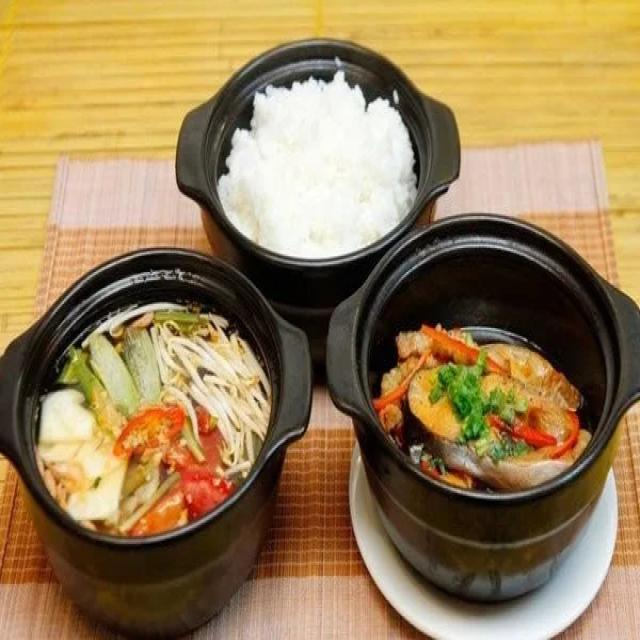ca_kho: (397, 333, 592, 471)
canh_chua: (47, 346, 261, 520)
